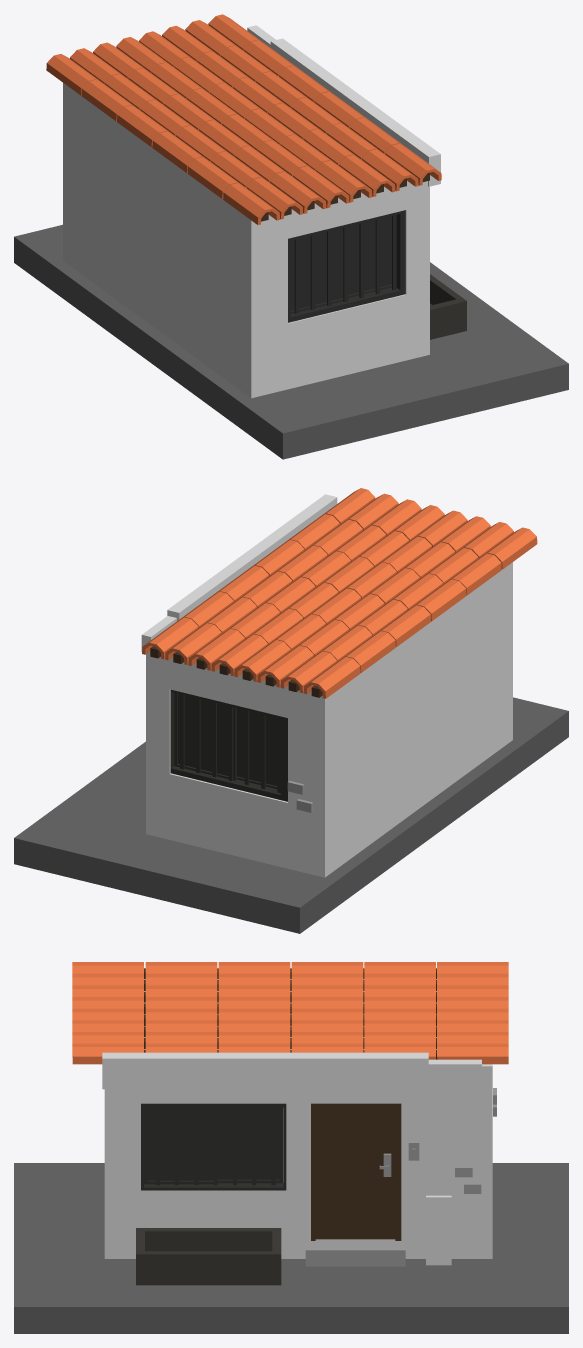
The model's file is Casa estrato 2.glb.
The picture shows the model from 3 angles, top to bottom: view 1: azimuth 30°, elevation 25°; view 2: azimuth 150°, elevation 25°; view 3: azimuth 270°, elevation 25°; orthographic projection. The views are drawn at different scales.
Visible parts, largest first — view 1: Cube.016, Plane.025, Cube.065, Cube.075, Cube.084; view 2: Cube.016, Plane.025, Cube.065, Cube.075, Cube.130; view 3: Cube.065, Cube.016, Plane.025, Cube.130, Cube.075, Cube.084, Cube.033.
Boxes of the visible parts, x1,y1,x2,y2 form: Cube.016: (63,25,440,398); Plane.025: (46,14,441,224); Cube.065: (14,224,568,459); Cube.075: (288,210,405,322); Cube.084: (430,274,466,339); Cube.016: (141,494,512,877); Plane.025: (142,488,537,698); Cube.065: (14,697,568,933); Cube.075: (170,689,287,801); Cube.130: (150,646,322,697); Cube.065: (14,1163,568,1333); Cube.016: (102,979,492,1265); Plane.025: (72,962,508,1064); Cube.130: (144,968,437,1240); Cube.075: (141,1103,286,1190); Cube.084: (136,1228,281,1285); Cube.033: (305,1088,496,1266).
Bounding box in the file's own units: 3.69 × 2.79 × 6.01.
